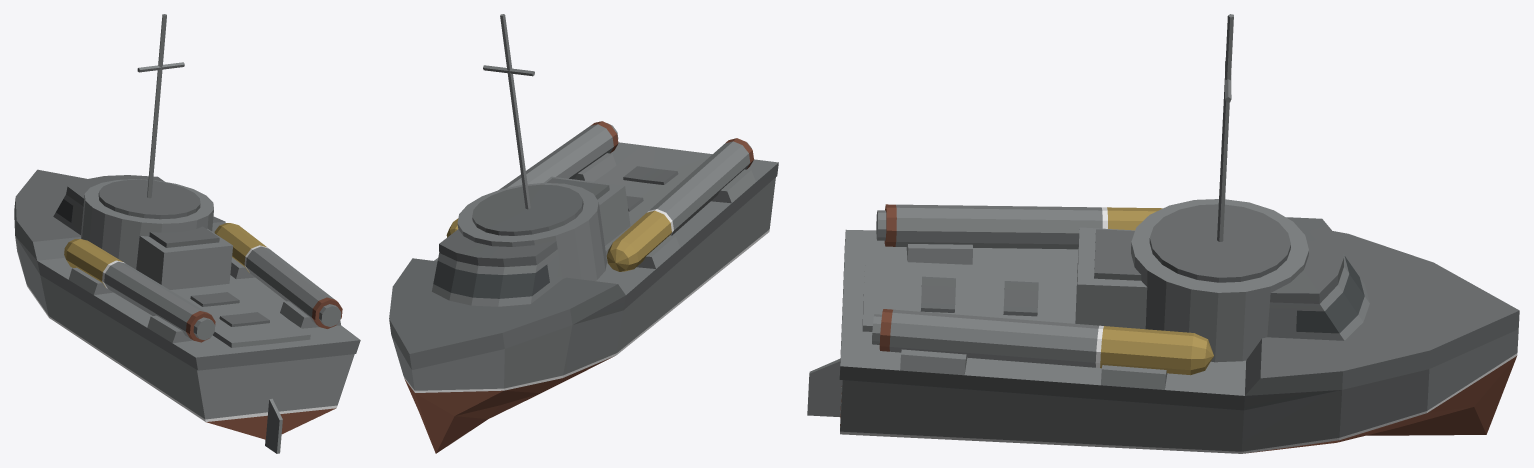
Rendered from Катер (тонет).fbx.
The picture shows the model from 3 angles, left to right: view 1: azimuth 30°, elevation 25°; view 2: azimuth 150°, elevation 25°; view 3: azimuth 270°, elevation 25°; orthographic projection. The views are drawn at different scales.
Parts seen in each view (by area): view 1: Торпедный_катер1; view 2: Торпедный_катер1; view 3: Торпедный_катер1.
Boxes of the visible parts, box(x1,y1,x2,y2) form: Торпедный_катер1: box(14, 14, 360, 453); Торпедный_катер1: box(389, 14, 778, 453); Торпедный_катер1: box(807, 14, 1519, 453).
Bounding box in the file's own units: 0.6763 × 1.1 × 1.6.
